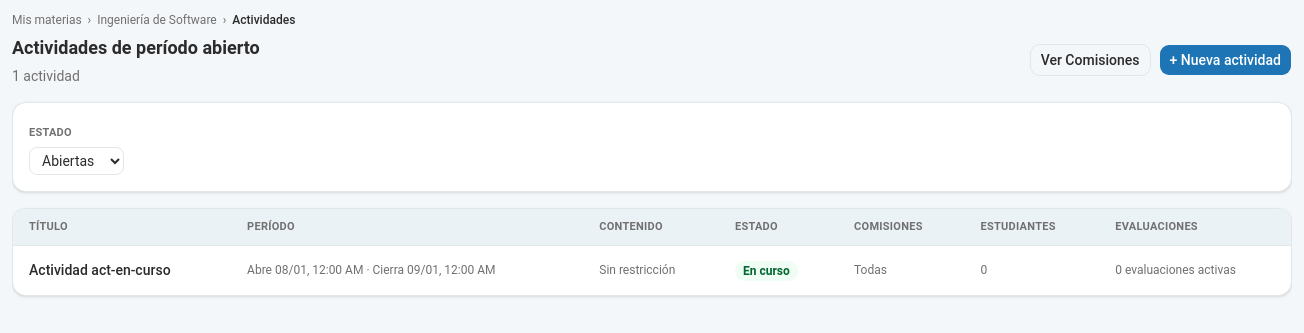
Actividades › con actividades pero ninguna del filtro elegido muestra el mensaje correspondiente
Expected: the text "Actividad act-en-curso" is shown, [13,245,231,295]
Select "Cerradas" in the dropdown labelled "Estado" at (76, 161), box [29,147,124,175]
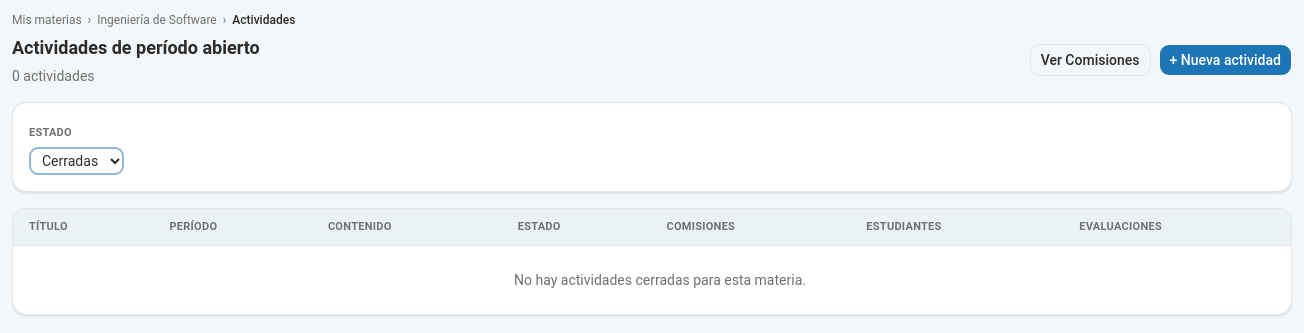
Expected: the text "No hay actividades cerradas para esta materia." is shown, [13,245,1291,314]
